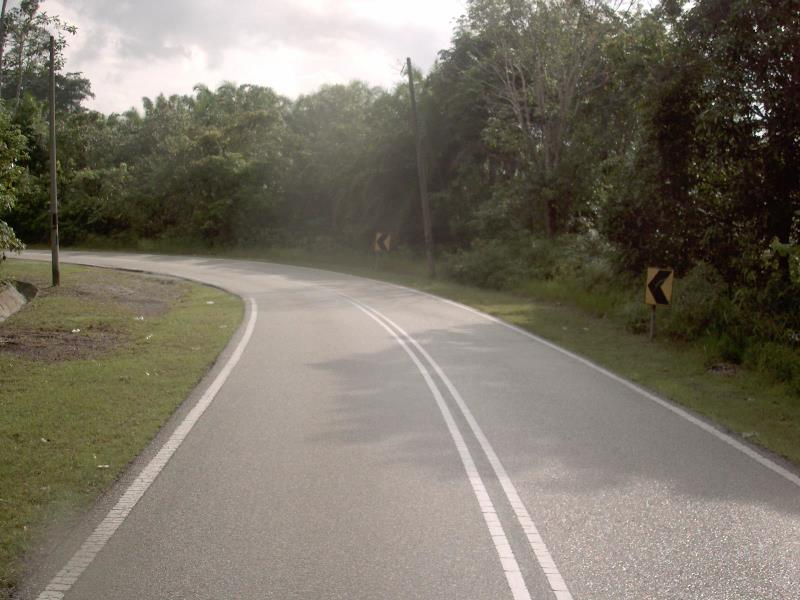traffic_sign: (637, 259, 685, 317)
